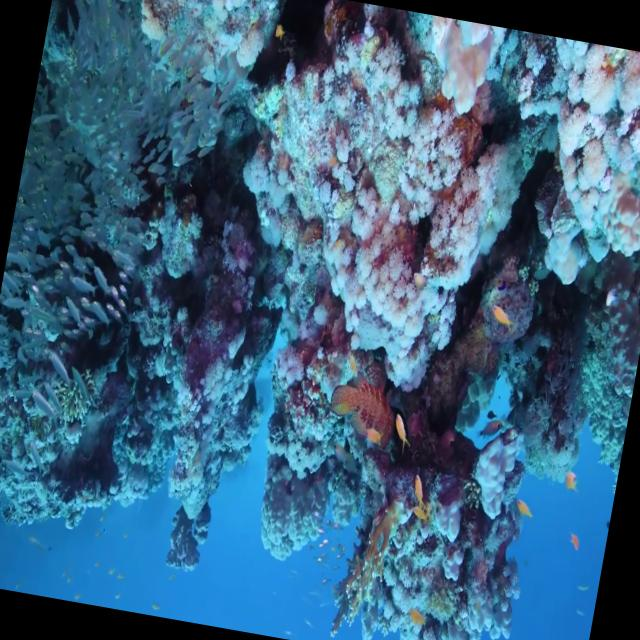fish: (315, 362, 399, 453), (381, 402, 424, 454)
